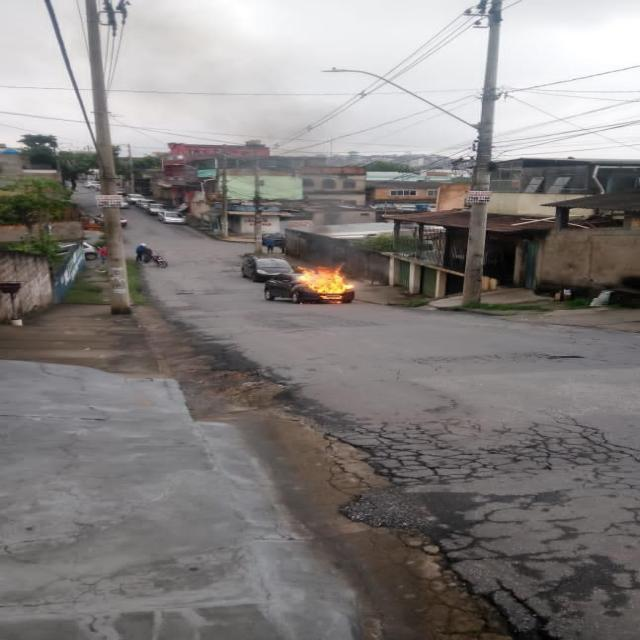Fire: (298, 264, 350, 304)
Smoke: (294, 180, 344, 260)
